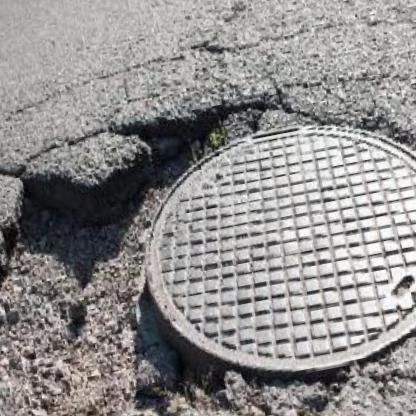pothole: (0, 85, 301, 416)
